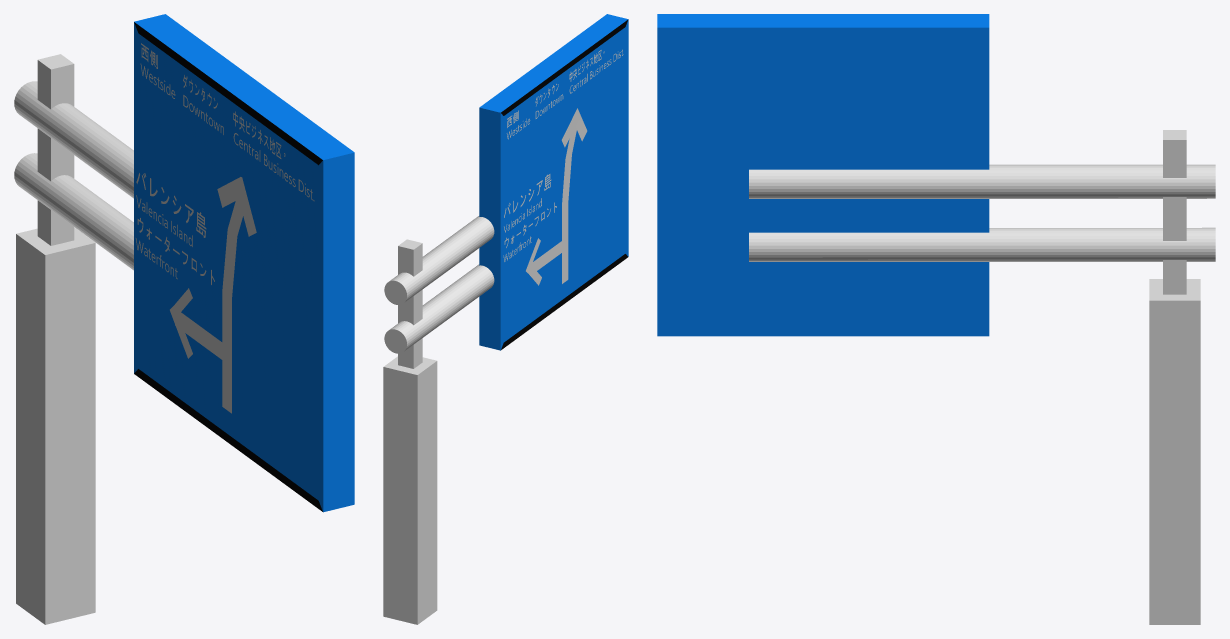
File: japantown_sign_8.fbx
3 views of the same model, side by side, from view 1: azimuth 30°, elevation 25°; view 2: azimuth 150°, elevation 25°; view 3: azimuth 270°, elevation 25° (orthographic). The views are drawn at different scales.
Visible parts, largest first — view 1: Cube.003, Cube, Cylinder, Cylinder.001, Plane, Plane.001, Plane.005; view 2: Cube.003, Cube, Cylinder.001, Cylinder, Plane, Plane.001; view 3: Cube.003, Cube, Cylinder, Cylinder.001.
Boxes of the visible parts, bbox=[...] form: Cube.003: bbox=[134, 14, 354, 512]; Cube: bbox=[16, 54, 95, 624]; Cylinder: bbox=[14, 81, 133, 198]; Cylinder.001: bbox=[14, 153, 133, 270]; Plane: bbox=[222, 199, 243, 413]; Plane.001: bbox=[175, 309, 222, 359]; Plane.005: bbox=[217, 177, 245, 207]; Cube.003: bbox=[479, 14, 628, 350]; Cube: bbox=[383, 239, 437, 624]; Cylinder.001: bbox=[384, 264, 494, 353]; Cylinder: bbox=[384, 216, 494, 304]; Plane: bbox=[562, 127, 576, 283]; Plane.001: bbox=[531, 241, 561, 270]; Cube.003: bbox=[657, 14, 989, 336]; Cube: bbox=[1149, 130, 1200, 624]; Cylinder: bbox=[749, 164, 1215, 198]; Cylinder.001: bbox=[749, 227, 1215, 261].
Size of the model in its own units: 6.7 by 76.11 by 65.5.
